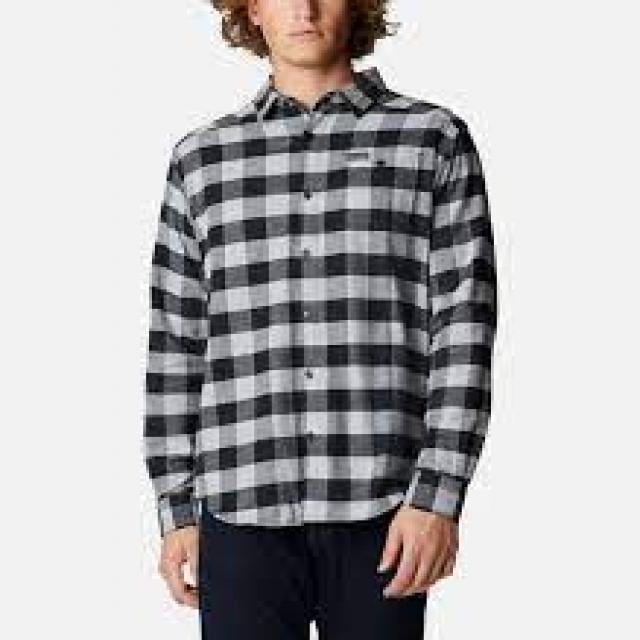plaid: (74, 74, 532, 546)
